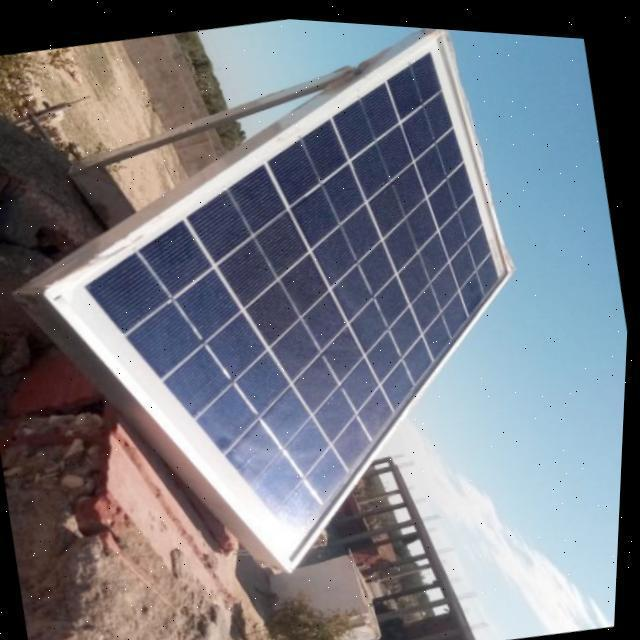Normal Solar Panel: (0, 1, 574, 620)
